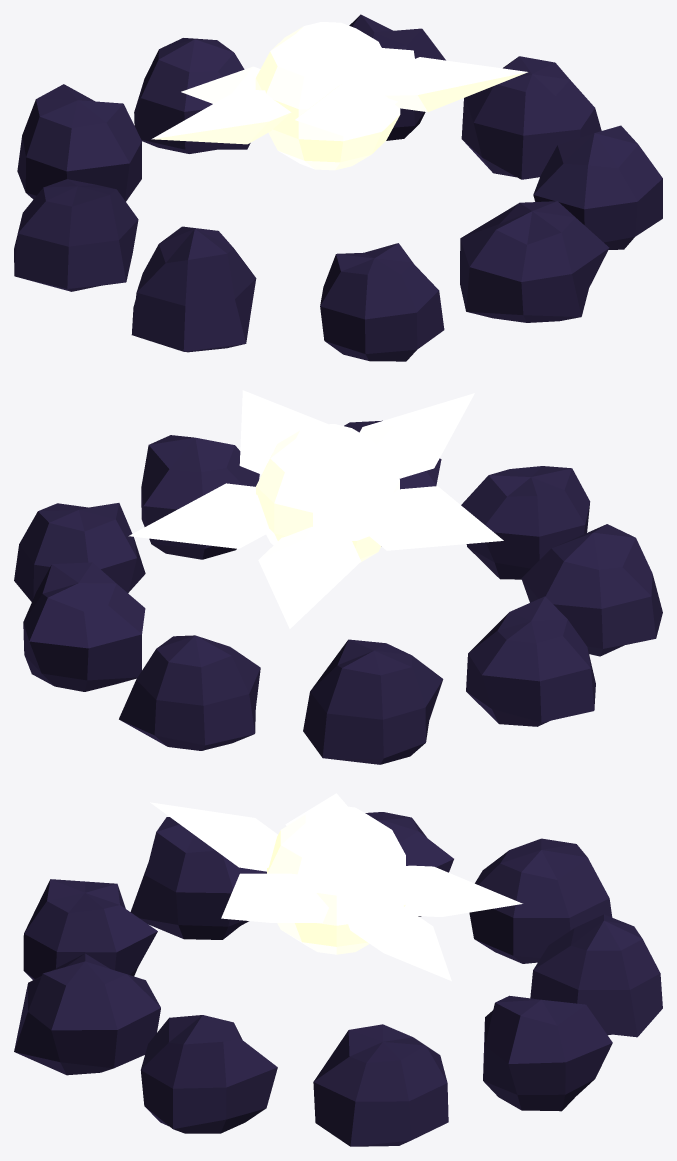
The model's file is FallenStar.fbx.
3 renders of one model, top to bottom at view 1: azimuth 30°, elevation 25°; view 2: azimuth 150°, elevation 25°; view 3: azimuth 270°, elevation 25°, orthographic.
Parts seen in each view (by area): view 1: FallenStar, FallenStar_Glow; view 2: FallenStar, FallenStar_Glow; view 3: FallenStar, FallenStar_Glow.
Boxes of the visible parts, x1,y1,x2,y2 form: FallenStar: (14, 14, 662, 361); FallenStar_Glow: (151, 22, 527, 170); FallenStar: (14, 420, 662, 764); FallenStar_Glow: (128, 390, 503, 628); FallenStar: (14, 812, 662, 1146); FallenStar_Glow: (150, 793, 522, 981).
Bounding box in the file's own units: 375 × 129 × 364.
2 materials, 1 textured.
